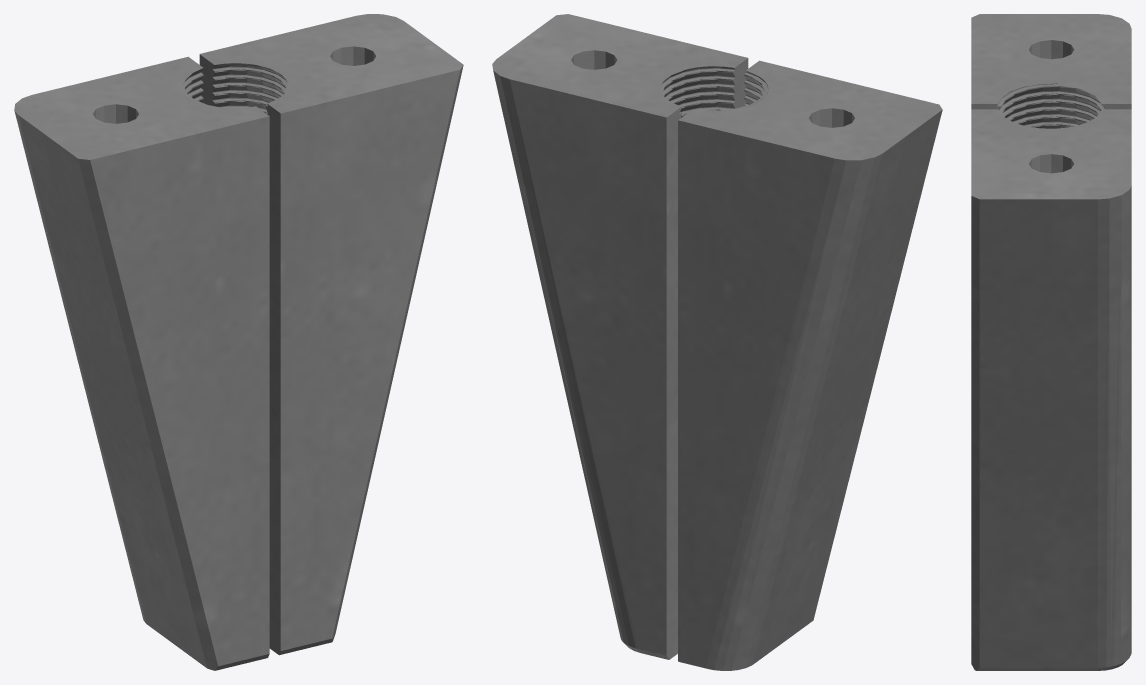
Rendered from Garra.glb.
3 views of the same model, side by side, from view 1: azimuth 30°, elevation 25°; view 2: azimuth 150°, elevation 25°; view 3: azimuth 270°, elevation 25° (orthographic).
Visible parts, largest first — view 1: IfcBuildingElementProxy/Chanfro4, IfcBuildingElementProxy/Chanfro3; view 2: IfcBuildingElementProxy/Chanfro4, IfcBuildingElementProxy/Chanfro3; view 3: IfcBuildingElementProxy/Chanfro3, IfcBuildingElementProxy/Chanfro4.
Boxes of the visible parts, x1=… form: IfcBuildingElementProxy/Chanfro4: x1=14, y1=56, x2=269, y2=670; IfcBuildingElementProxy/Chanfro3: x1=199, y1=14, x2=463, y2=655; IfcBuildingElementProxy/Chanfro4: x1=678, y1=60, x2=942, y2=670; IfcBuildingElementProxy/Chanfro3: x1=492, y1=14, x2=748, y2=659; IfcBuildingElementProxy/Chanfro3: x1=971, y1=109, x2=1131, y2=670; IfcBuildingElementProxy/Chanfro4: x1=971, y1=14, x2=1131, y2=128.
Size of the model in its own units: 0.052 by 0.07 by 0.019.
1 material, 1 textured.
